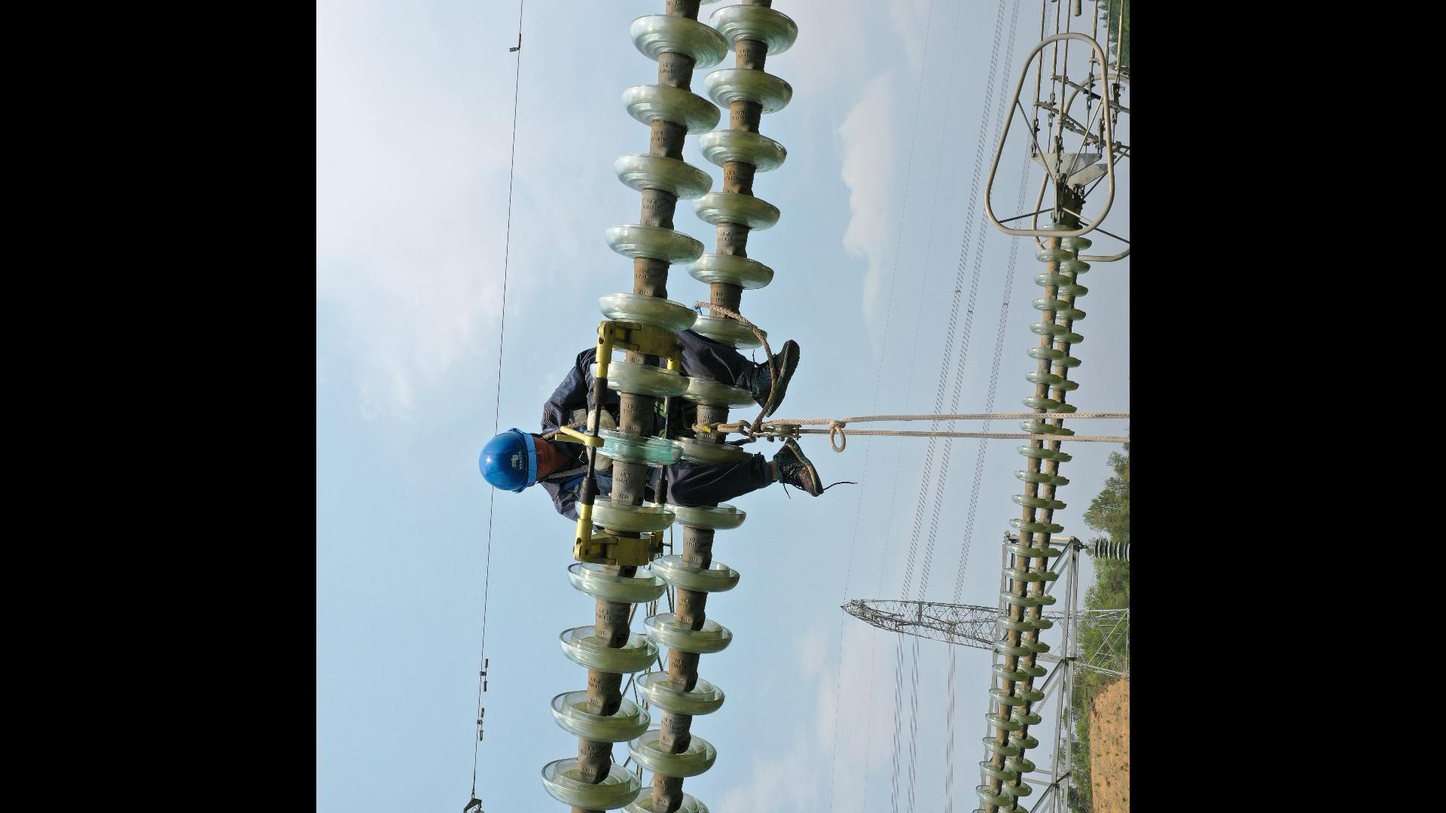insulator: (535, 1, 804, 813), (969, 219, 1097, 813)
